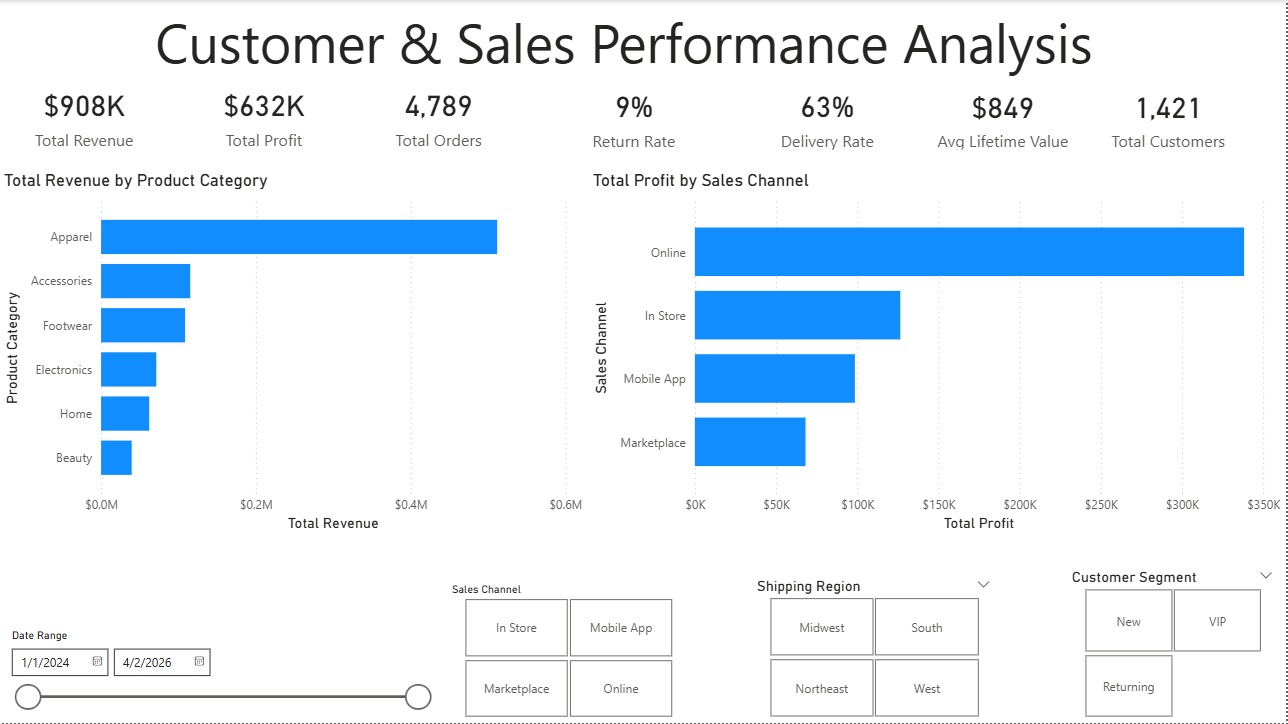

What the dashboard file says about the page in this screenshot:
{"tool":"powerbi","page":{"name":"Overview","canvas":[1280,720],"ordinal":0},"visuals":[{"type":"slicer","fields":{"Values":["orders.order_date"]},"box":[0,620.7,437.9,99.5],"z":0},{"type":"slicer","fields":{"Values":["orders.sales_channel"]},"box":[437.9,574.7,256.3,145.5],"z":1000},{"type":"slicer","fields":{"Values":["orders.shipping_region"]},"box":[741.4,569.7,257.5,150.5],"z":2000},{"type":"slicer","fields":{"Values":["orders.customer_segment"]},"box":[1054.9,561,225.2,159.2],"z":3000},{"type":"card","fields":{"Values":["Measures (3).Total Revenue"]},"box":[0,76.8,170.2,75.5],"z":5000},{"type":"card","fields":{"Values":["Measures (3).Total Profit"]},"box":[181.1,76.8,164.7,75.5],"z":6000},{"type":"card","fields":{"Values":["Measures (3).Total Orders"]},"box":[345.8,76.8,183.9,75.5],"z":7000},{"type":"card","fields":{"Values":["Measures (3).Return Rate"]},"box":[529.7,76.8,204.5,76.8],"z":8000},{"type":"card","fields":{"Values":["Measures (3).Delivery Rate"]},"box":[734.1,76.8,181.1,76.8],"z":9000},{"type":"card","fields":{"Values":["Measures (3).Average Lifetime Value"]},"box":[915.3,78.2,167.4,75.5],"z":10000},{"type":"card","fields":{"Values":["Measures (3).Total Customers"]},"box":[1082.7,78.2,163.3,75.5],"z":11000},{"type":"textbox","box":[150.5,0,1129.5,87.1],"z":12000},{"type":"clusteredBarChart","fields":{"Category":["products.product_category"],"Y":["Measures (3).Total Revenue"]},"box":[0,168.8,585.9,365],"z":13000},{"type":"clusteredBarChart","fields":{"Category":["orders.sales_channel"],"Y":["Measures (3).Total Profit"]},"box":[585.9,168.8,694.3,365],"z":14000}]}

Visuals, with their boxes in screenshot pixels (x1, y1, x2, y2), scaled from the page's 1280x720 canvas onto the 1288x724 screenshot:
slicer - orders.order_date: detection(0, 624, 441, 723)
slicer - orders.sales_channel: detection(441, 578, 699, 723)
slicer - orders.shipping_region: detection(746, 573, 1005, 723)
slicer - orders.customer_segment: detection(1061, 564, 1287, 723)
card - Measures (3).Total Revenue: detection(0, 77, 171, 153)
card - Measures (3).Total Profit: detection(182, 77, 348, 153)
card - Measures (3).Total Orders: detection(348, 77, 533, 153)
card - Measures (3).Return Rate: detection(533, 77, 739, 154)
card - Measures (3).Delivery Rate: detection(739, 77, 921, 154)
card - Measures (3).Average Lifetime Value: detection(921, 79, 1089, 155)
card - Measures (3).Total Customers: detection(1089, 79, 1254, 155)
textbox: detection(151, 0, 1287, 88)
clusteredBarChart - products.product_category x Measures (3).Total Revenue: detection(0, 170, 590, 537)
clusteredBarChart - orders.sales_channel x Measures (3).Total Profit: detection(590, 170, 1287, 537)
